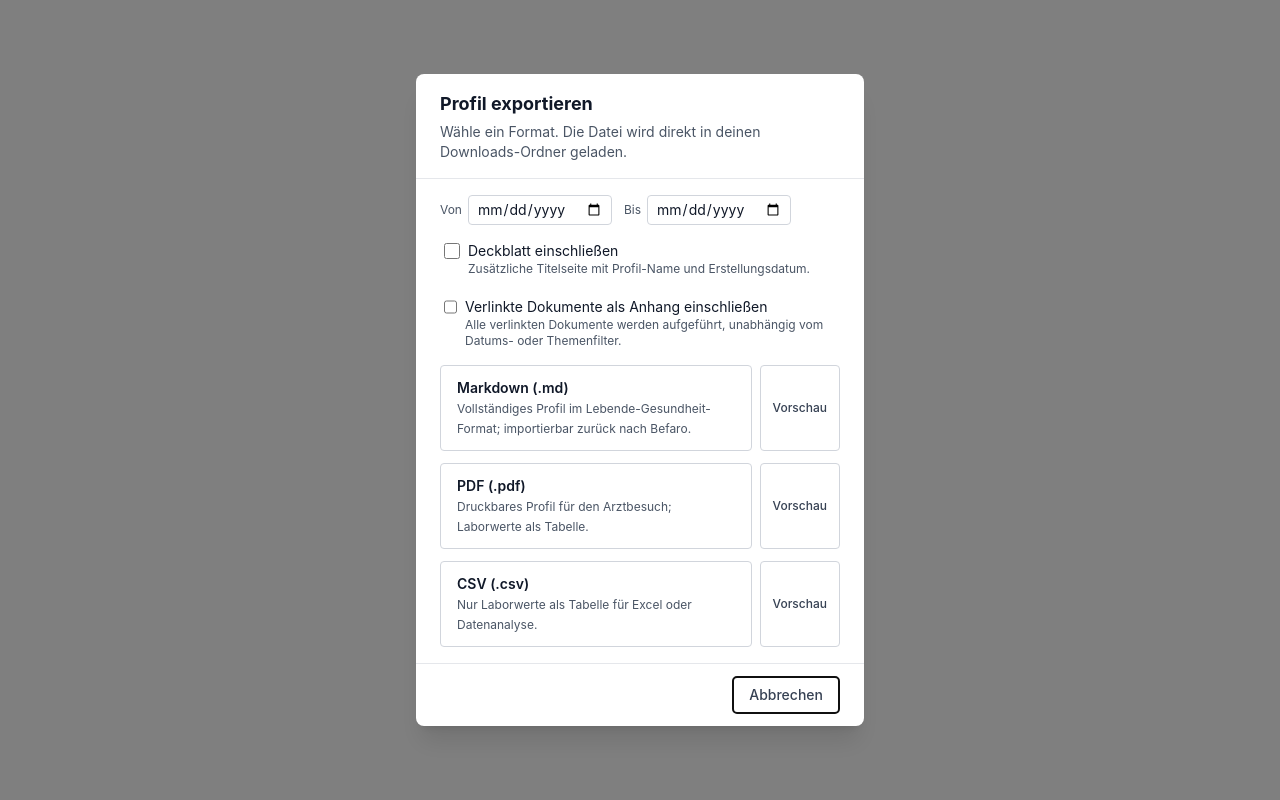
Scenario: ExportDialog › preview workflow (X-07) › clicking CSV Preview opens the preview modal with the empty placeholder when no labs
Click the button with test id "export-csv-preview".
click(800, 604)  # box [760,561,840,647]
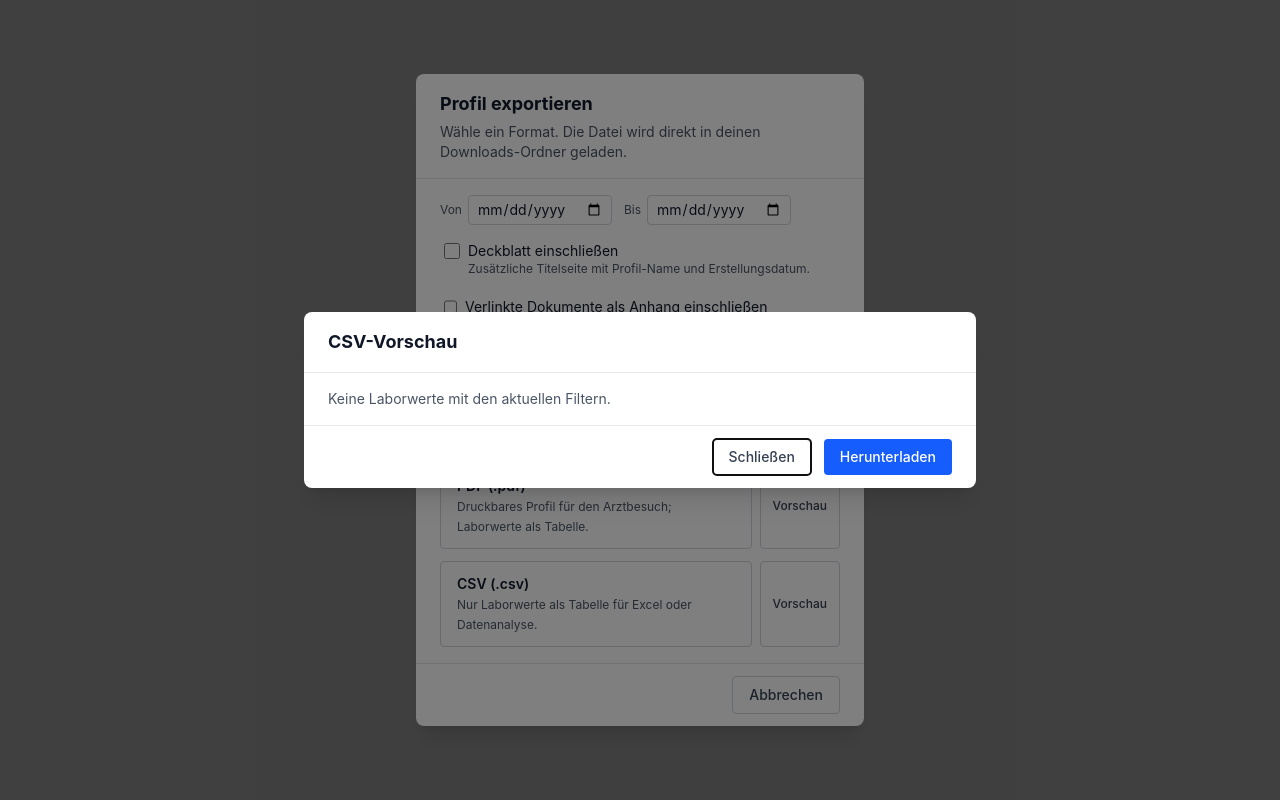
Now the text "Keine Laborwerte mit den aktuellen Filtern." is shown, box [328,390,611,407]
